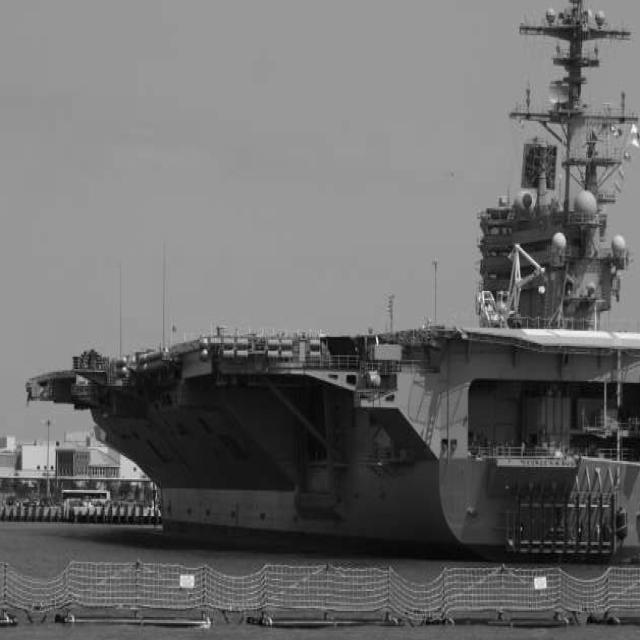Portanaves: (31, 1, 640, 558)
